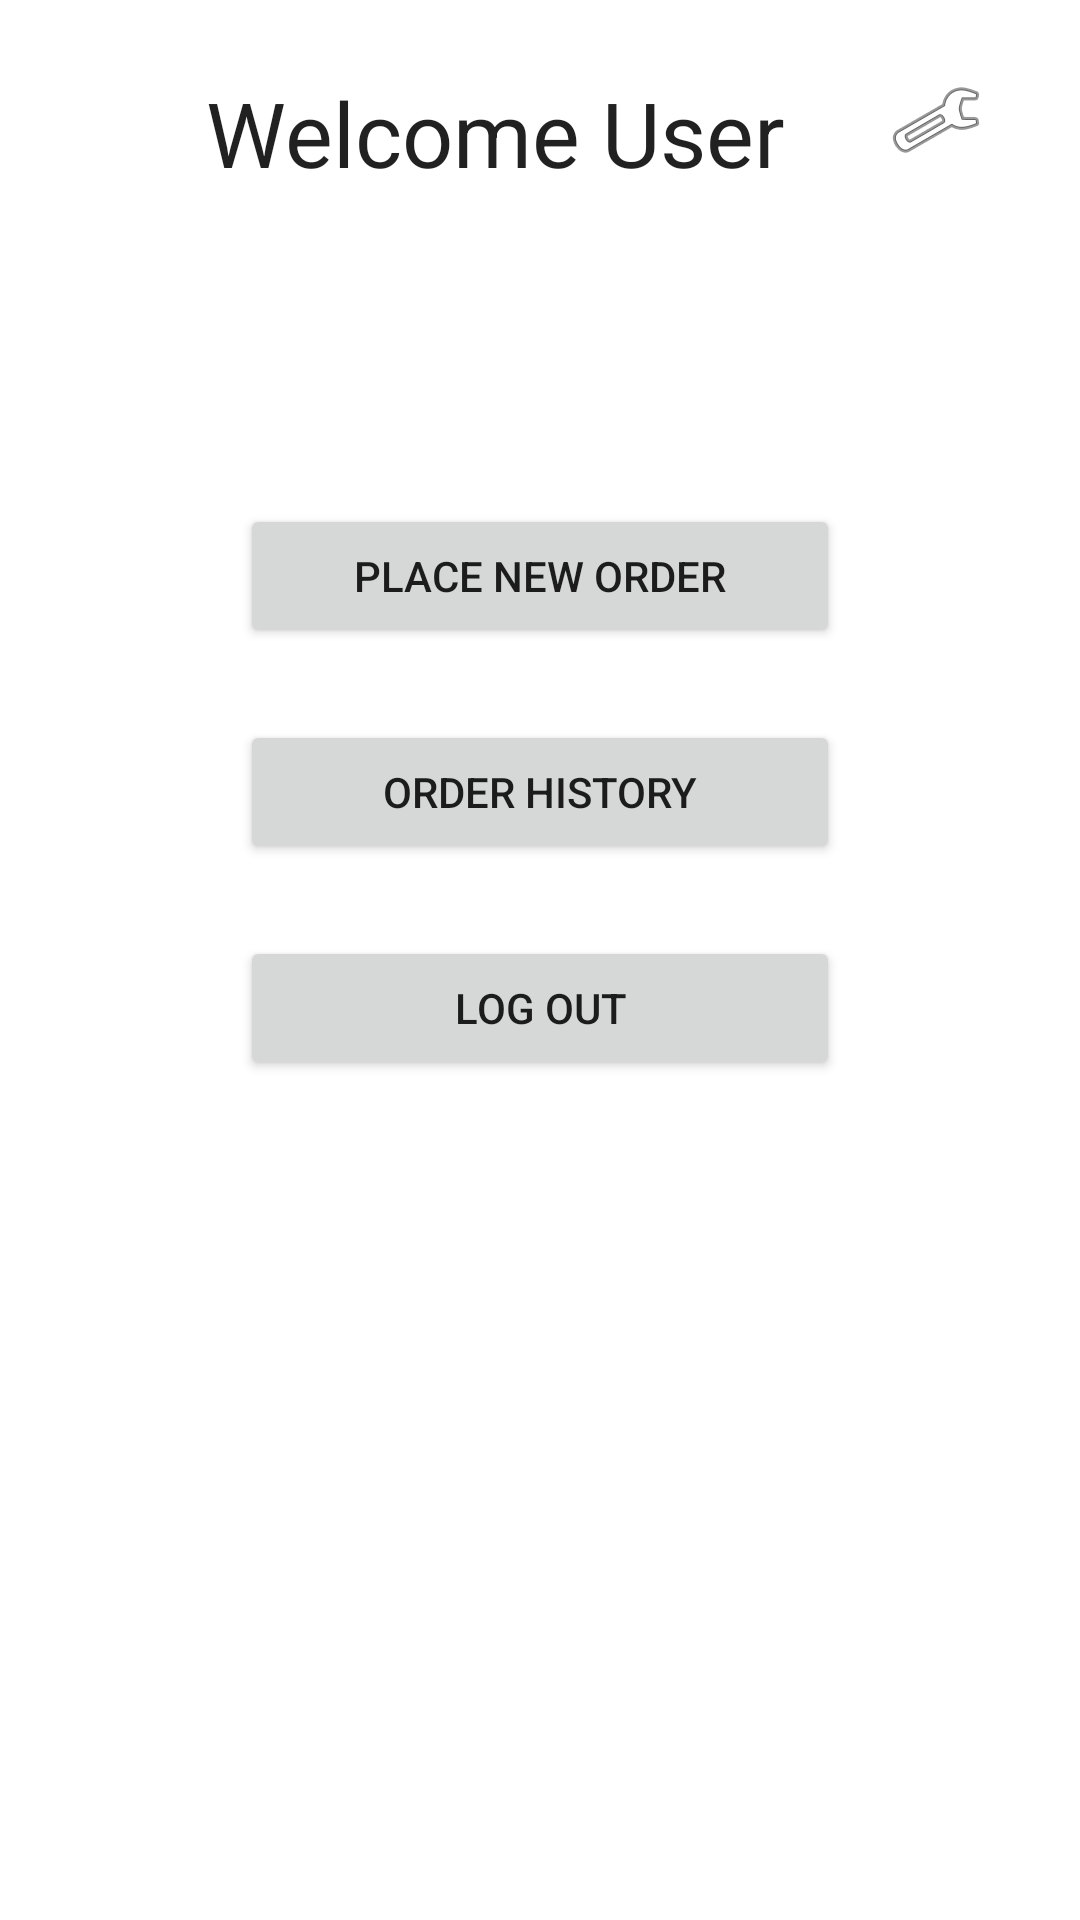

Locate icon controls on the screen. Image size 1080 x 1920, boxes as (x1, y1, x2, y2).
manage: (893, 87, 979, 153)
